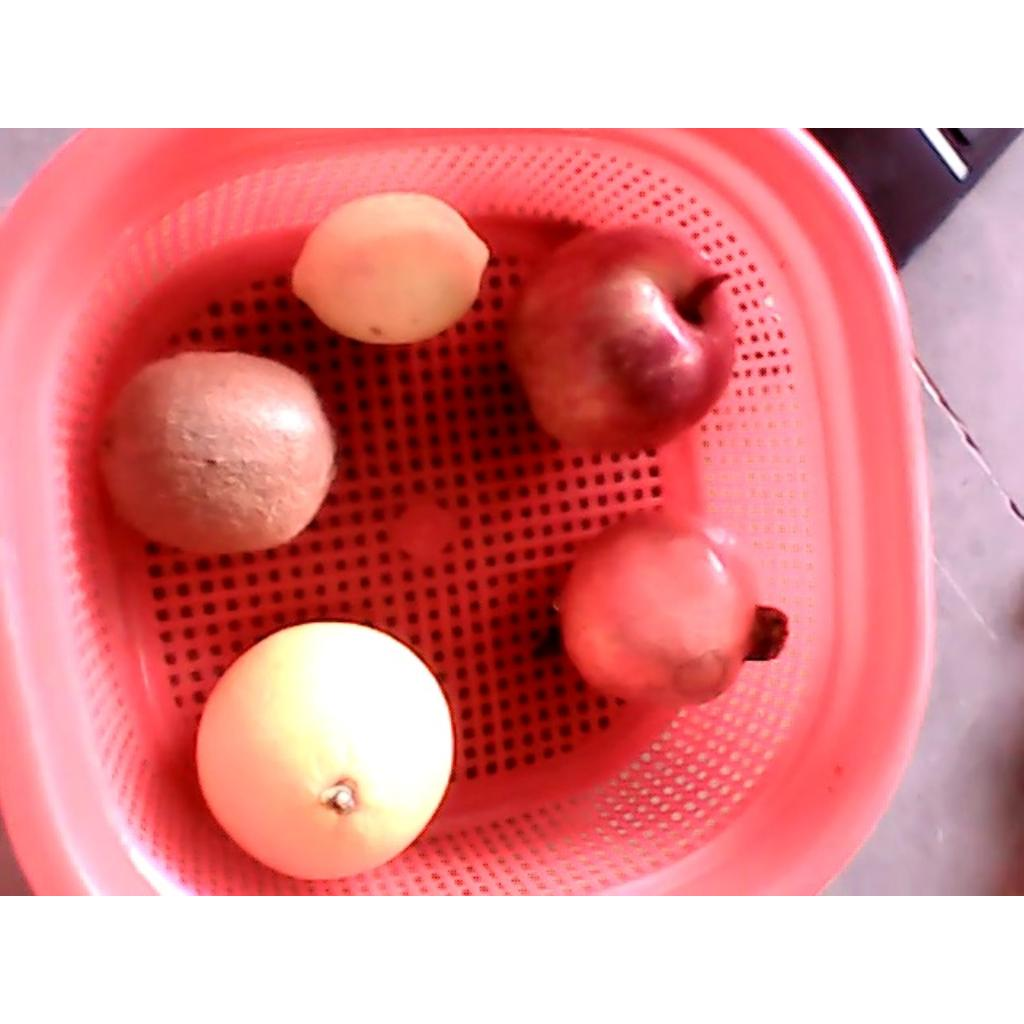apple: (502, 224, 737, 454)
kiwi: (91, 349, 337, 555)
lemon: (290, 192, 489, 345)
orange: (195, 619, 455, 882)
pomegranate: (558, 509, 787, 713)
